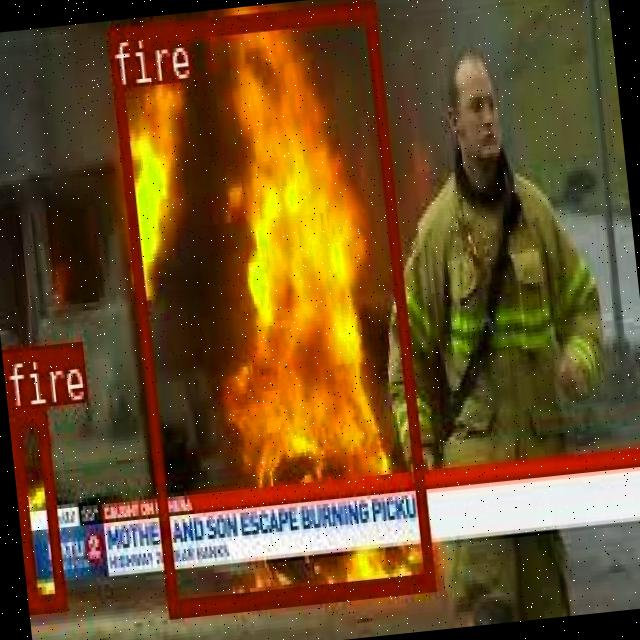fire: (105, 0, 432, 613), (8, 405, 62, 609)
